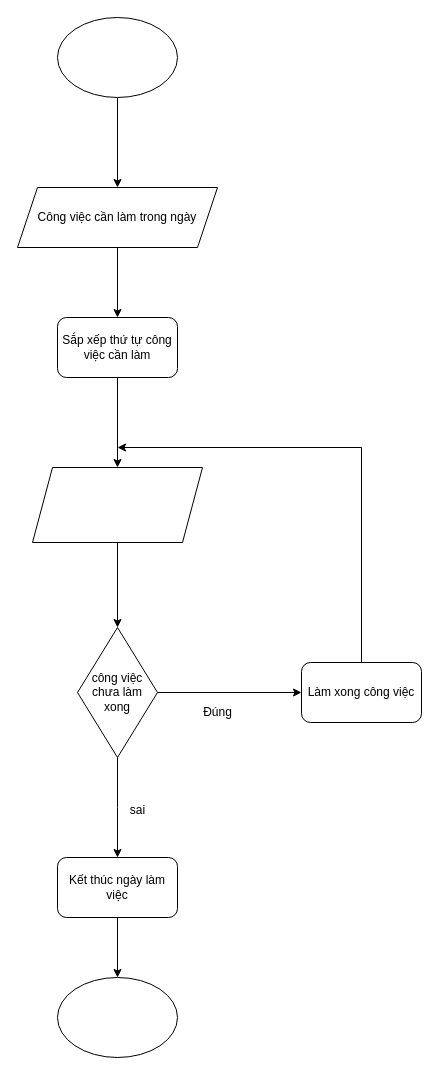
Some shapes in this 439 by 1075 pixel diagram are drawn without their labels. The centre of each missing label's shape, as x and y in pixels:
"Bắt đầu" belongs at (117,57).
"Kết thúc" belongs at (117,1017).
"đánh đấu công việc đã làm xong" belongs at (117,504).
